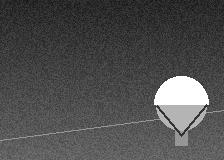helmet: (154, 76, 208, 135)
